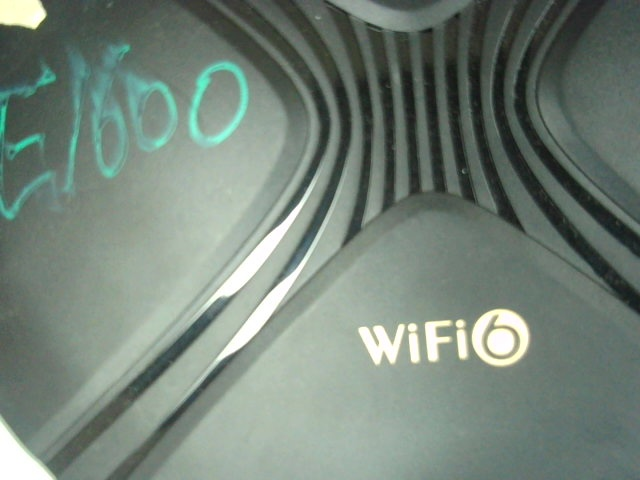AK_ZTEWIFI6Black: (351, 293, 532, 372)
